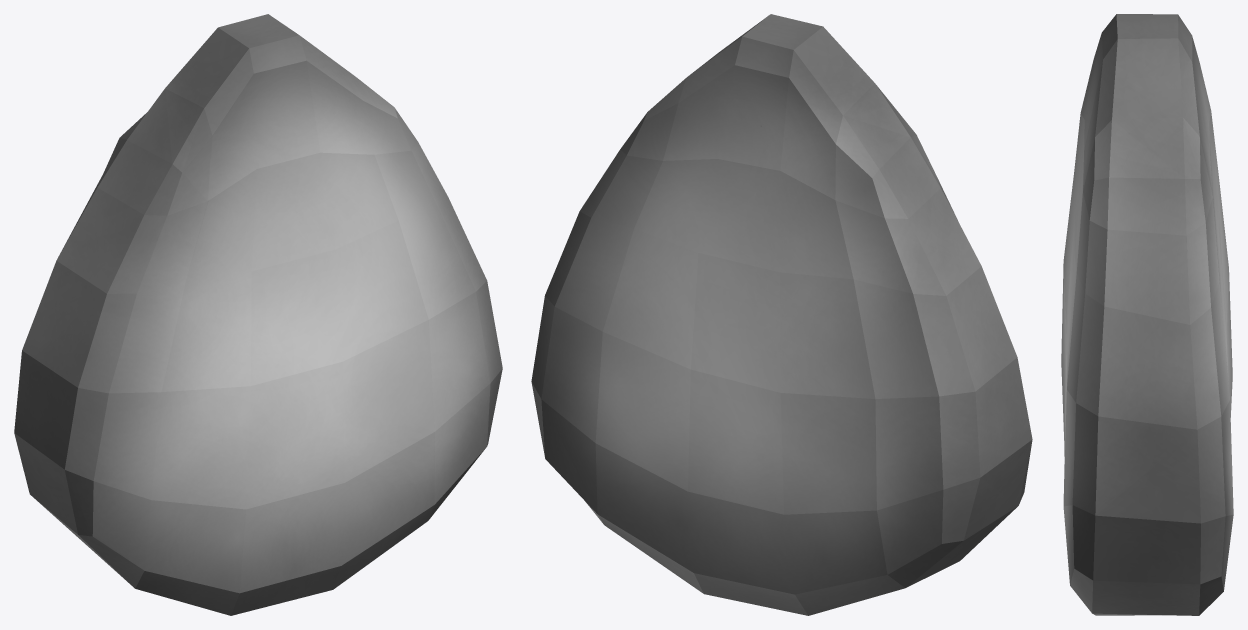
File: penta.fbx
The picture shows the model from 3 angles, left to right: view 1: azimuth 30°, elevation 25°; view 2: azimuth 150°, elevation 25°; view 3: azimuth 270°, elevation 25°; orthographic projection. The views are drawn at different scales.
Parts seen in each view (by area): view 1: penta; view 2: penta; view 3: penta.
Boxes of the visible parts, <box> form: penta: <box>14,14,502,615</box>; penta: <box>531,14,1032,615</box>; penta: <box>1061,14,1233,615</box>.
Size of the model in its own units: 64.6 by 77.74 by 21.41.
